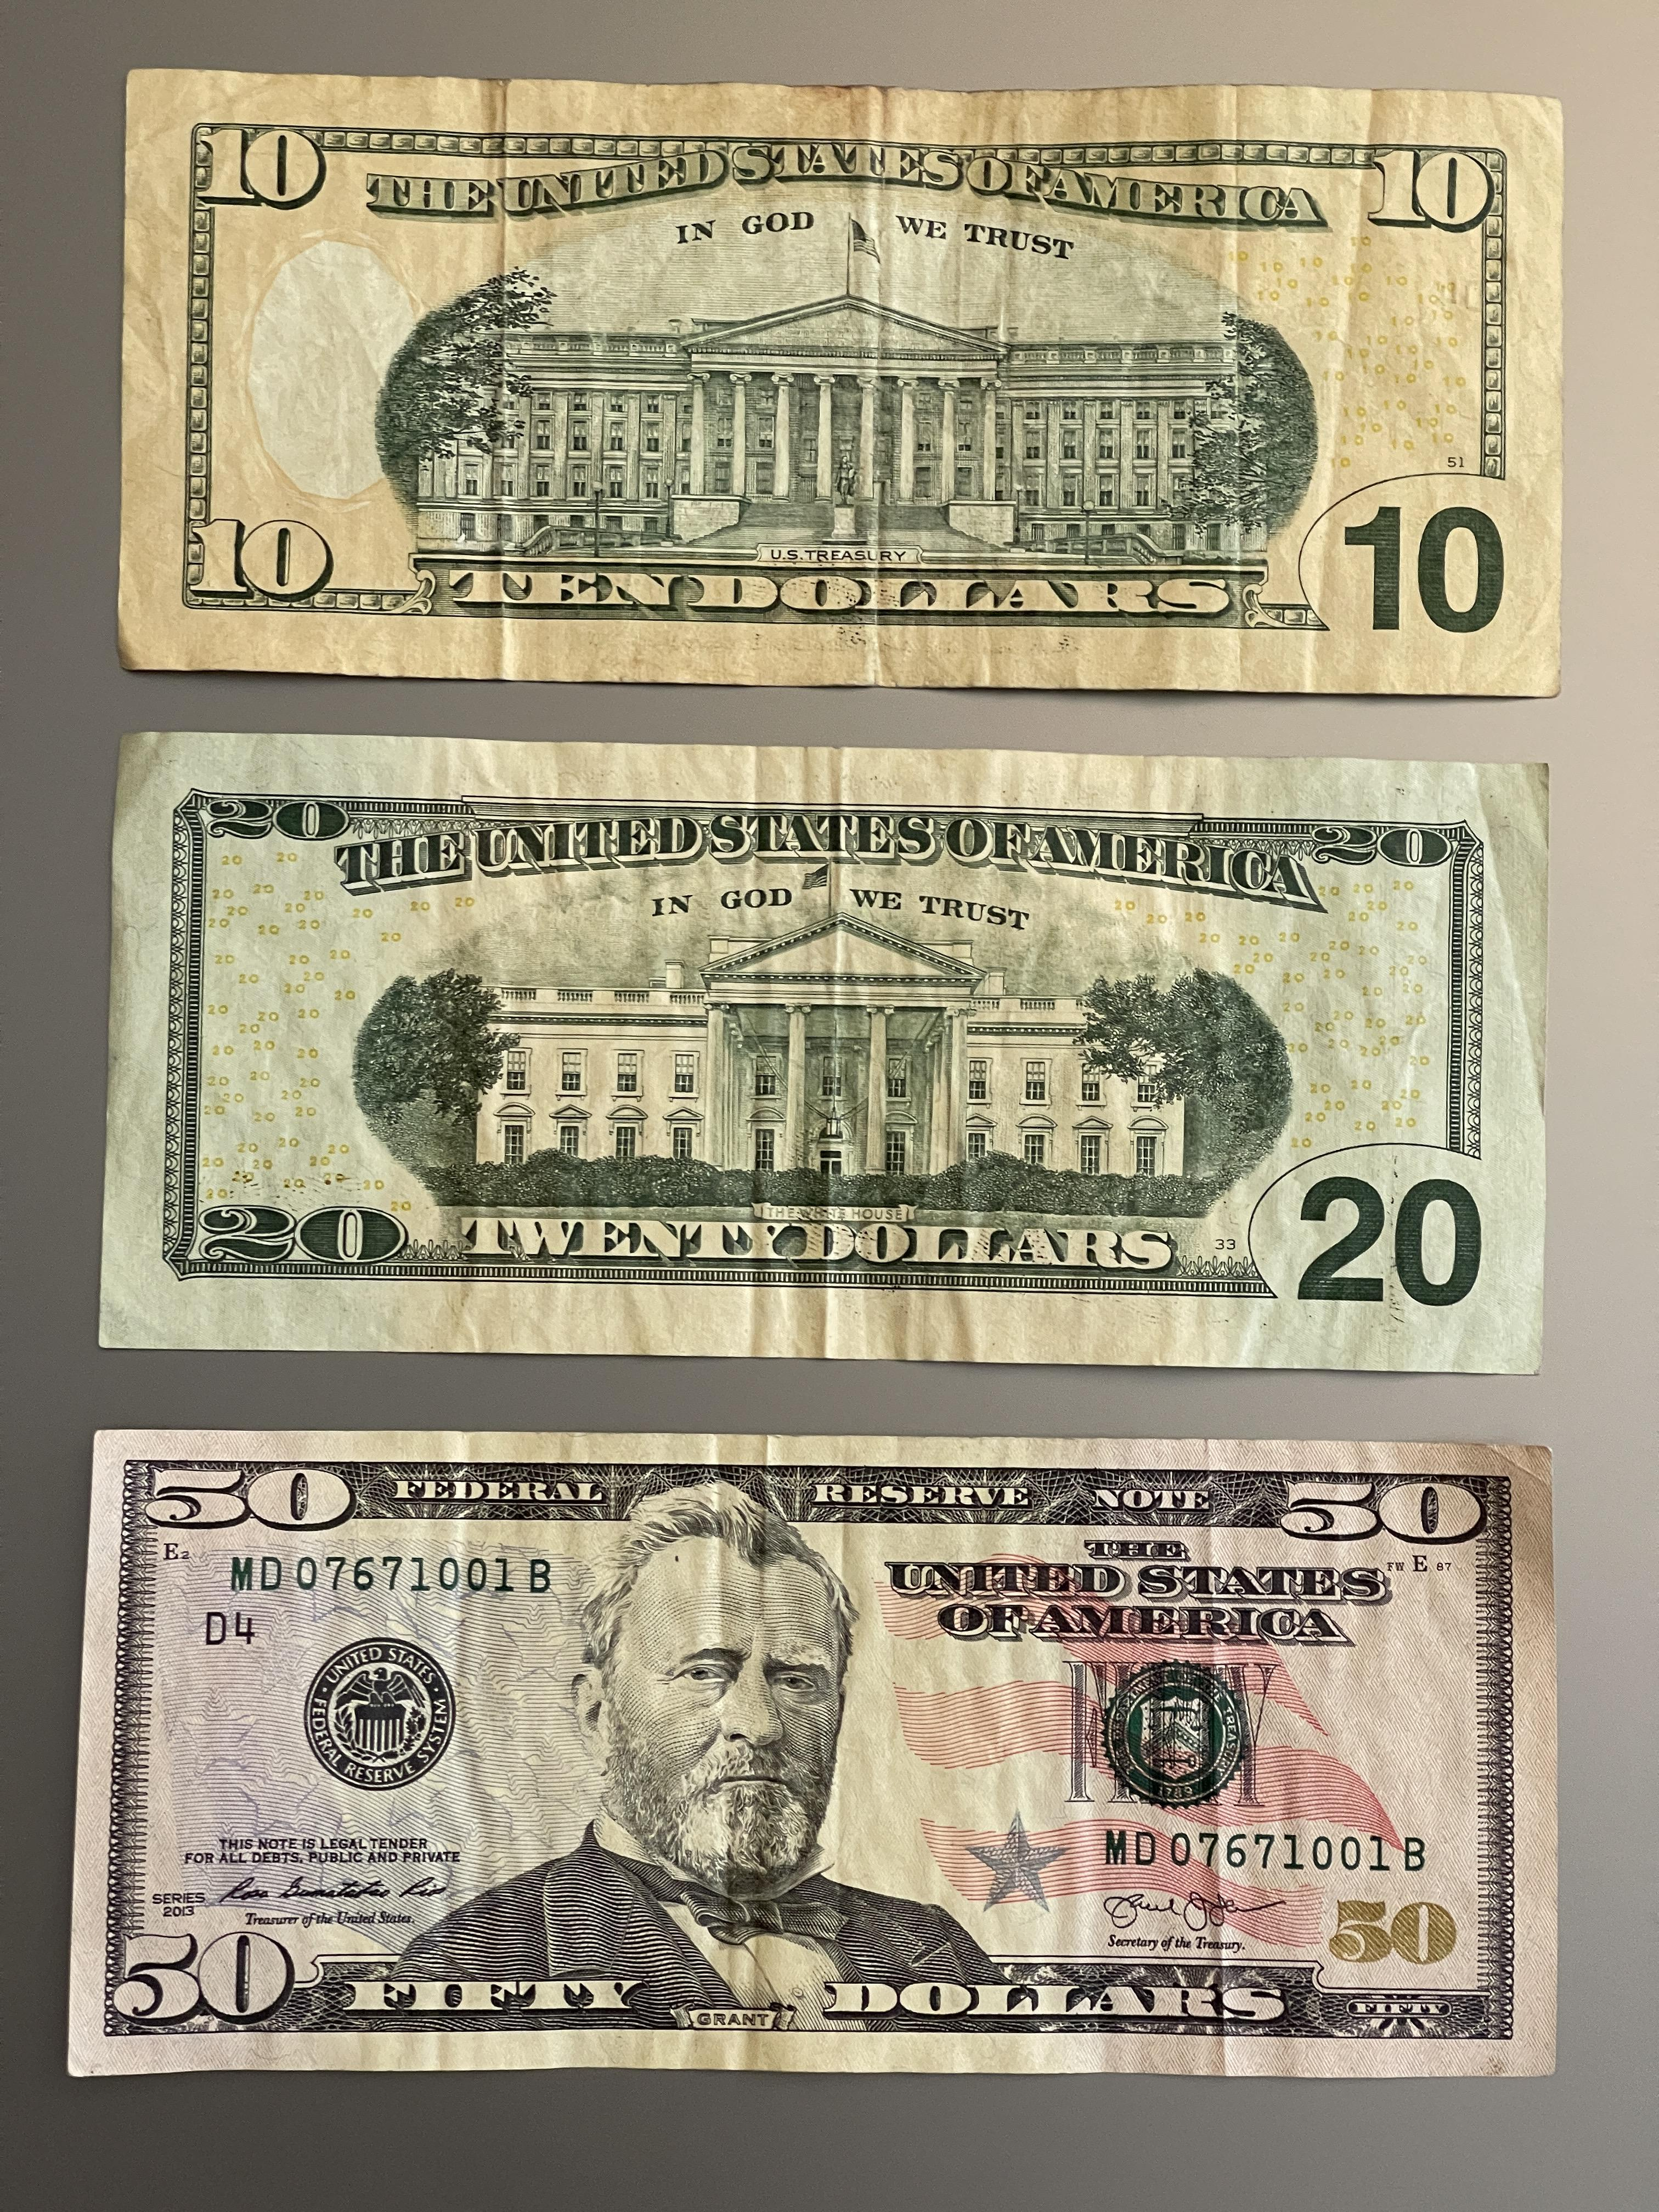FiftyBill: (63, 1421, 1565, 2080)
TenBill: (120, 59, 1568, 702)
TwentyBill: (92, 726, 1558, 1381)
